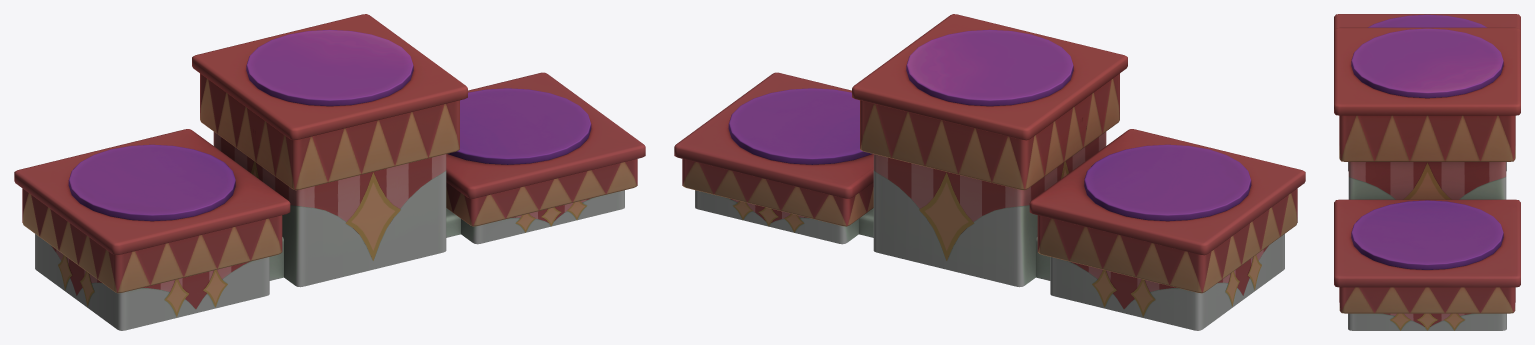
The model's file is SM_Run_Podium.fbx.
3 renders of one model, left to right at view 1: azimuth 30°, elevation 25°; view 2: azimuth 150°, elevation 25°; view 3: azimuth 270°, elevation 25°, orthographic. The views are drawn at different scales.
Parts seen in each view (by area): view 1: SM_Run_Podium; view 2: SM_Run_Podium; view 3: SM_Run_Podium.
Part boxes in pixels (x1,y1,x2,y2): SM_Run_Podium: (14,14,645,330); SM_Run_Podium: (674,14,1305,330); SM_Run_Podium: (1334,14,1520,330).
Bounding box in the file's own units: 980 × 304 × 327.
